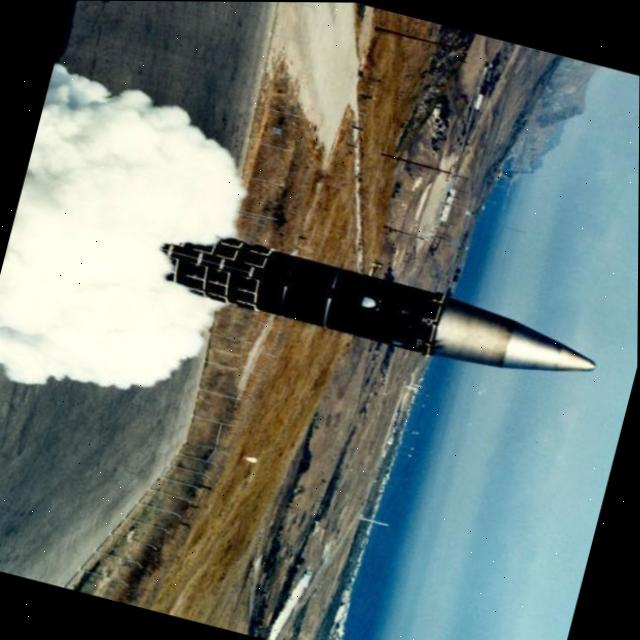missile: (155, 212, 606, 408)
